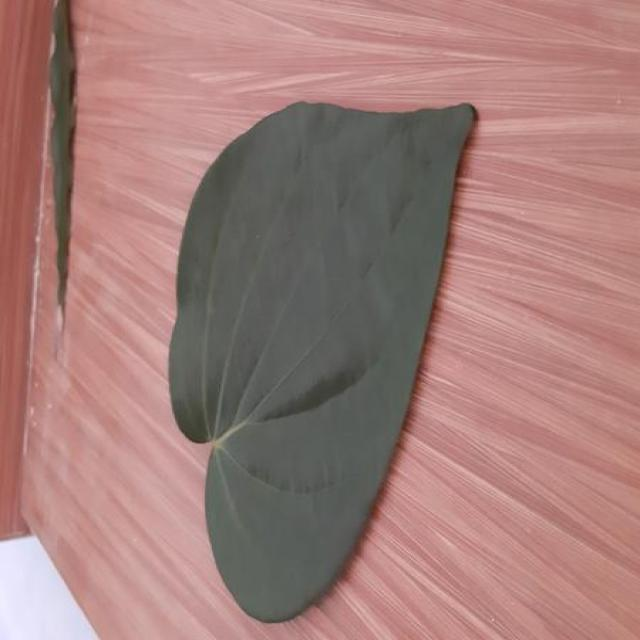betel: (168, 104, 475, 621)
